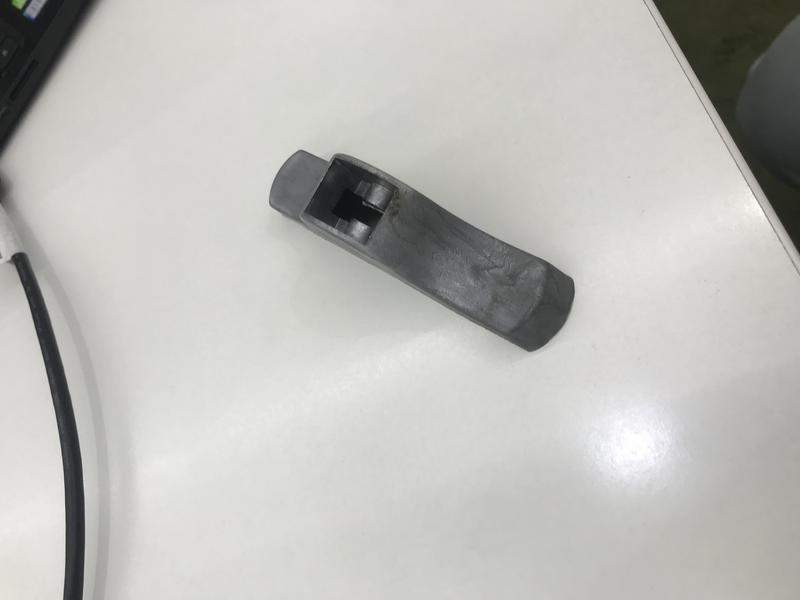zapchast: (260, 141, 586, 368)
